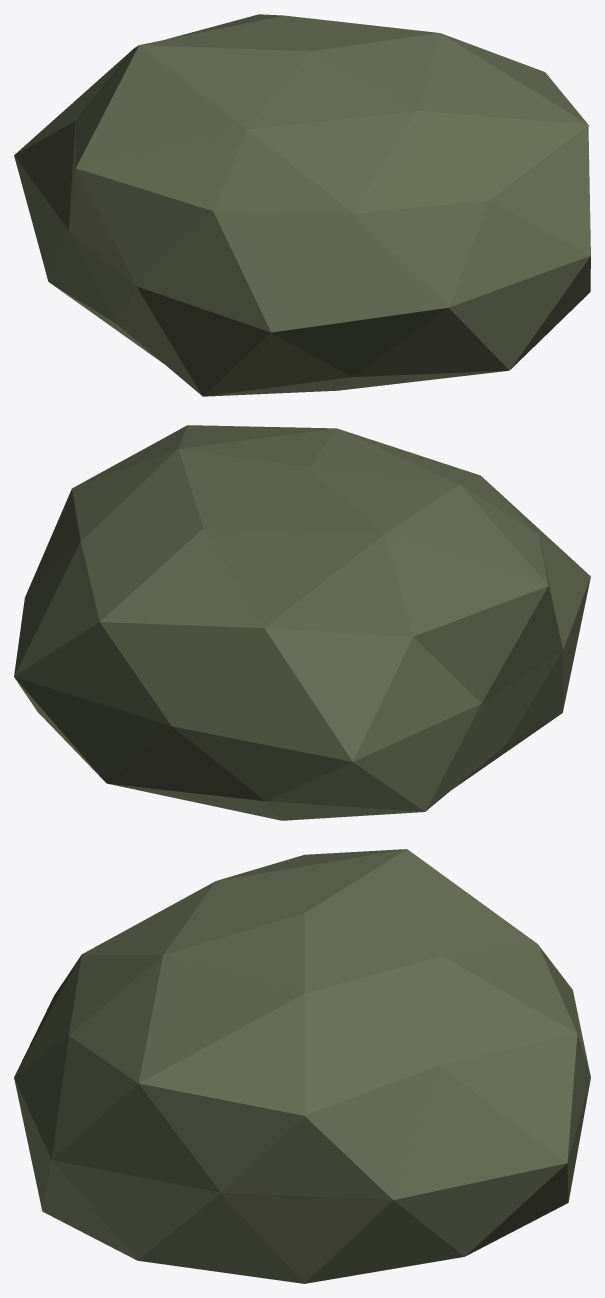
The model's file is rockMass5.obj.
3 renders of one model, top to bottom at view 1: azimuth 30°, elevation 25°; view 2: azimuth 150°, elevation 25°; view 3: azimuth 270°, elevation 25°, orthographic. The views are drawn at different scales.
Parts seen in each view (by area): view 1: rockMass5; view 2: rockMass5; view 3: rockMass5.
Boxes of the visible parts, bbox=[...] form: rockMass5: bbox=[14, 14, 590, 396]; rockMass5: bbox=[14, 425, 590, 820]; rockMass5: bbox=[14, 849, 590, 1283].
Size of the model in its own units: 1.69 by 1 by 1.69.
Materials: 1 (1 with a texture image).
